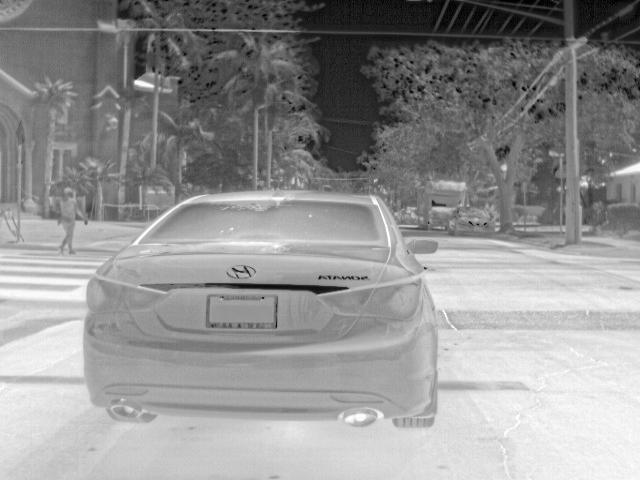car: (84, 192, 443, 431), (450, 205, 496, 239), (401, 206, 419, 224)
person: (57, 187, 88, 255)
